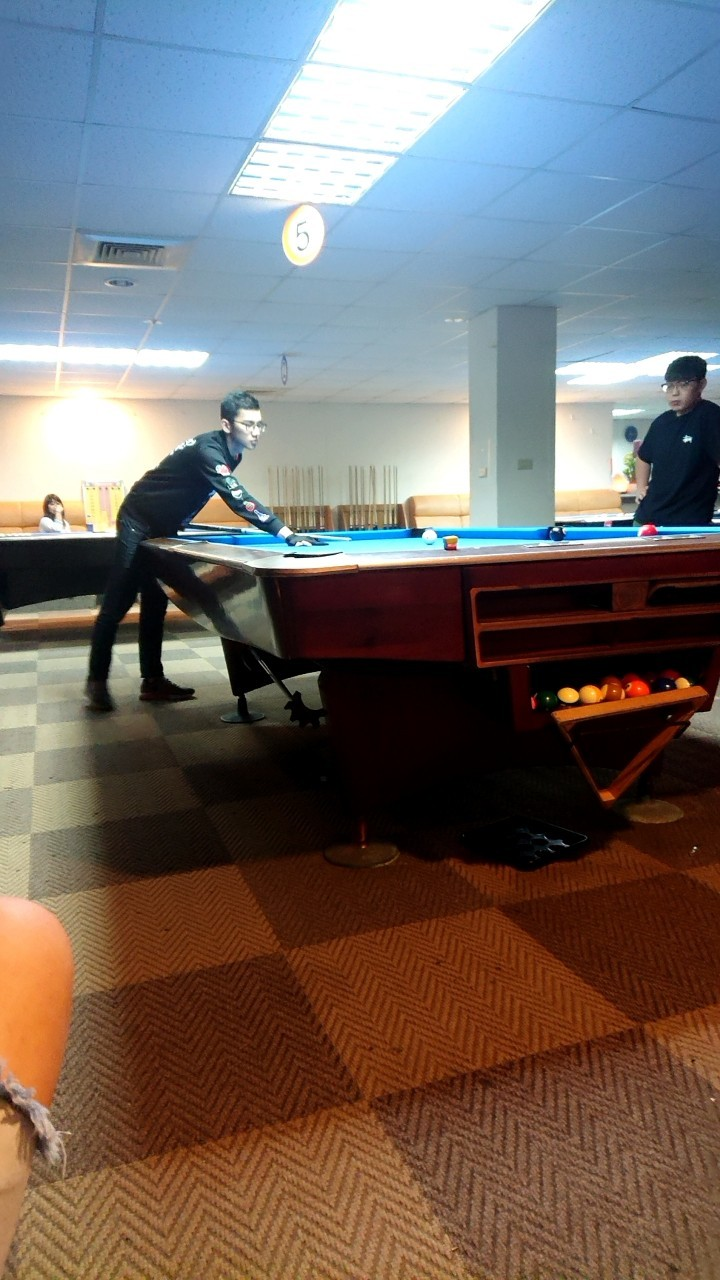people: (107, 400, 252, 706), (634, 349, 720, 533), (38, 496, 79, 535)
